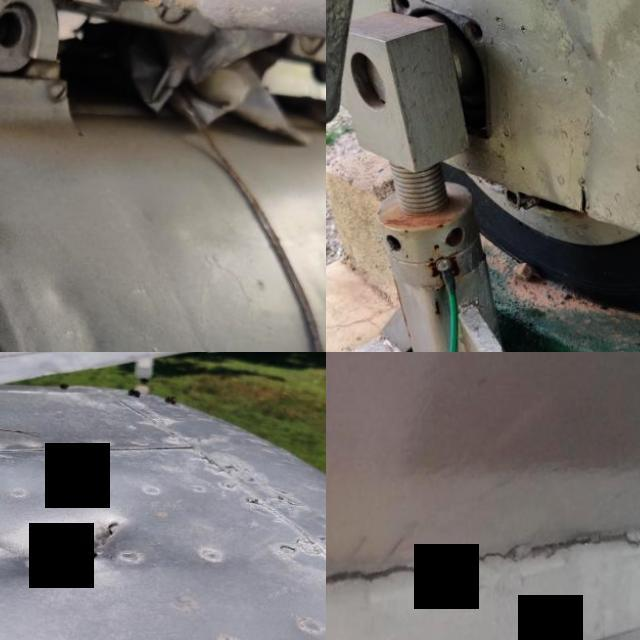Crack: (326, 526, 640, 590), (0, 493, 150, 594), (569, 176, 602, 220)
Dent: (4, 264, 131, 352)
